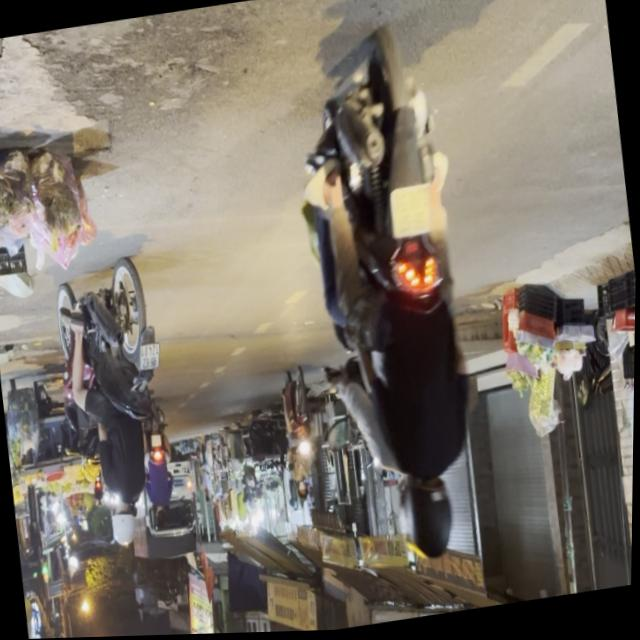helmet: (404, 475, 461, 565), (394, 479, 424, 558), (110, 504, 142, 549)
licenseplate: (275, 19, 505, 580), (47, 254, 186, 557)
nohelmet: (389, 186, 439, 240), (138, 343, 162, 372)
